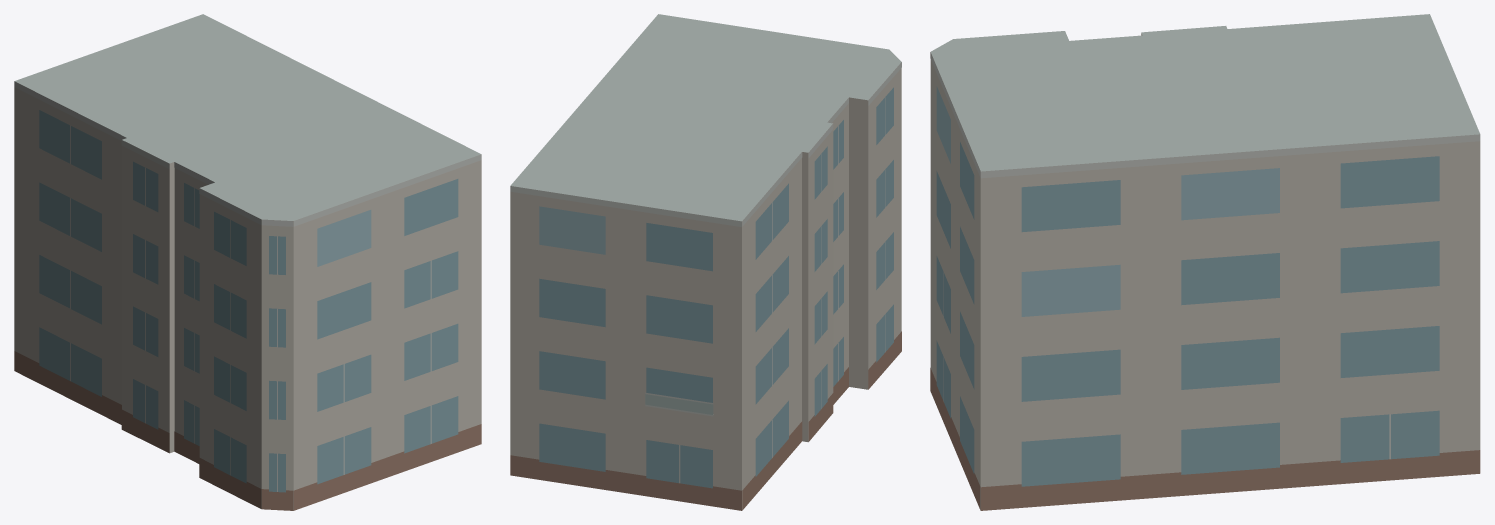
Rendered from survey-upis-32670867.glb.
3 views of the same model, side by side, from view 1: azimuth 30°, elevation 25°; view 2: azimuth 150°, elevation 25°; view 3: azimuth 270°, elevation 25° (orthographic). The views are drawn at different scales.
Parts seen in each view (by area): view 1: survey-upis-32670867.tmp; view 2: survey-upis-32670867.tmp; view 3: survey-upis-32670867.tmp.
Part boxes in pixels (<box>): survey-upis-32670867.tmp: <box>14,14,481,510</box>; survey-upis-32670867.tmp: <box>510,14,901,510</box>; survey-upis-32670867.tmp: <box>930,14,1480,510</box>.
Bounding box in the file's own units: 12.15 × 12.2 × 17.93.
